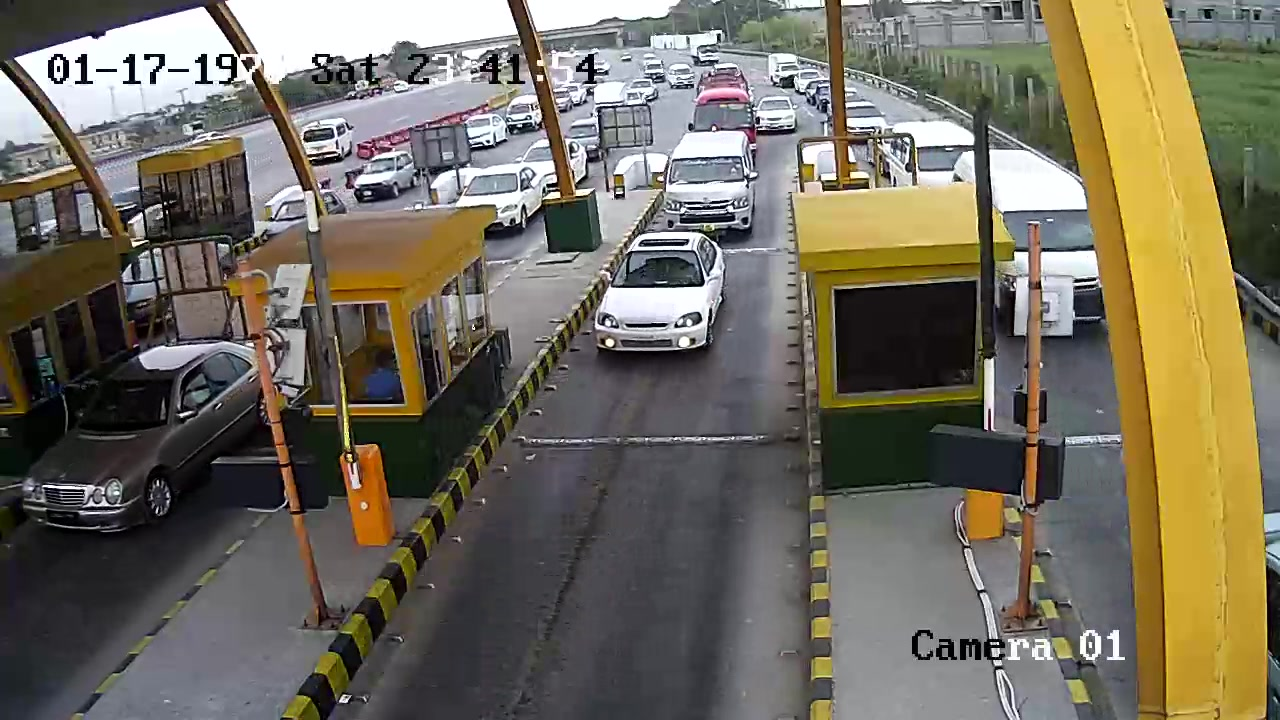F1: (579, 210, 733, 379)
